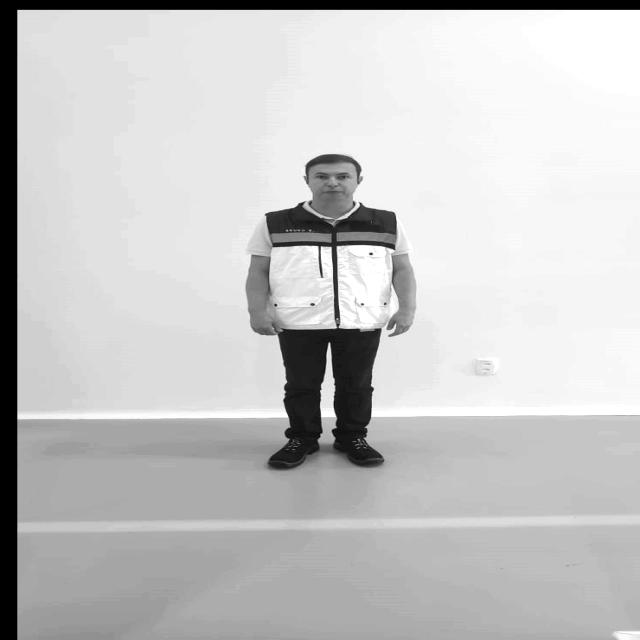Boots: (327, 431, 396, 472), (265, 433, 320, 477)
Vest: (264, 203, 392, 329)
